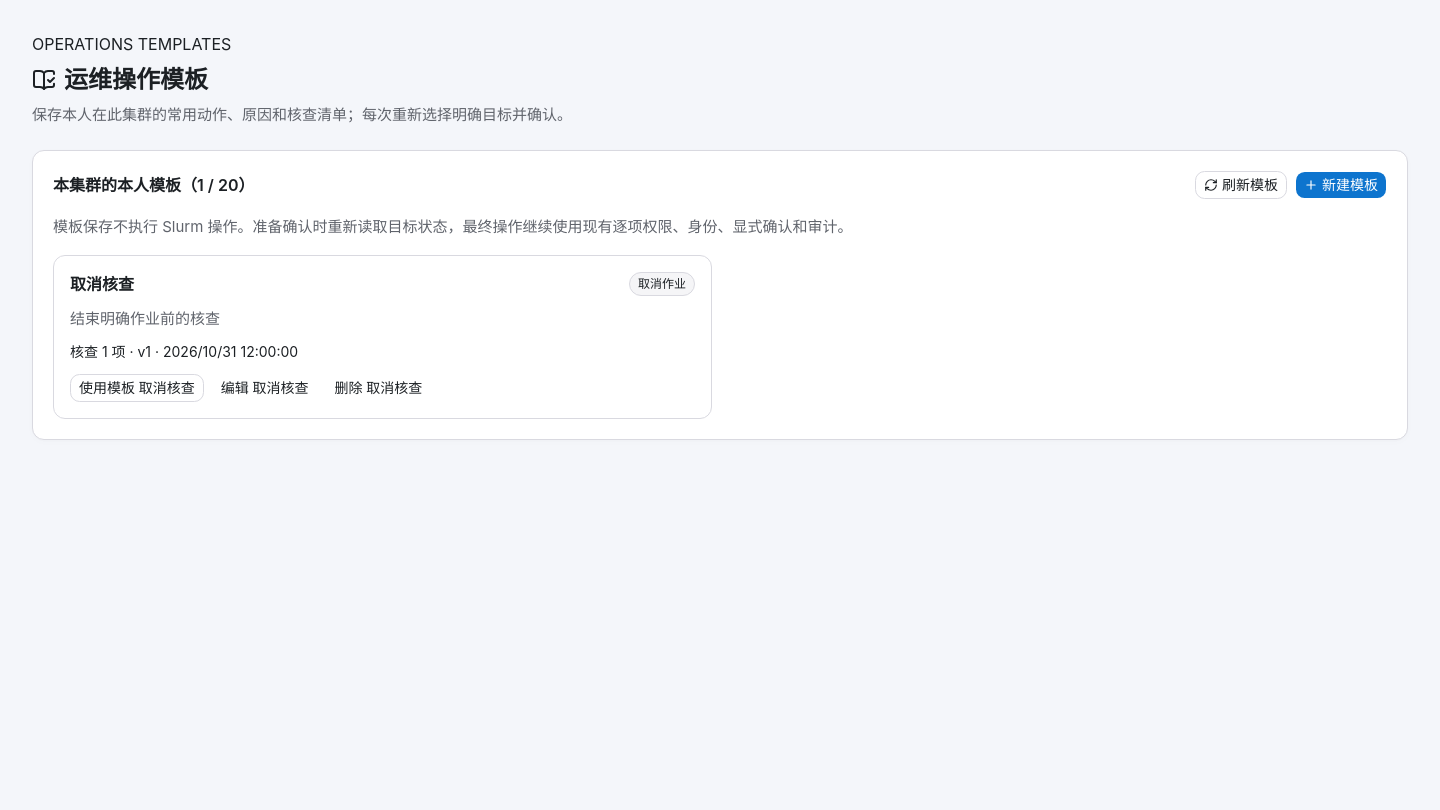
Test: never prepares or executes merely by listing or selecting a template
This screenshot has width=1440, height=810.
Expected: the heading "取消核查" is shown, [70,272,134,296]
Click the button "使用模板 取消核查" at (137, 388), box [70,374,204,402]
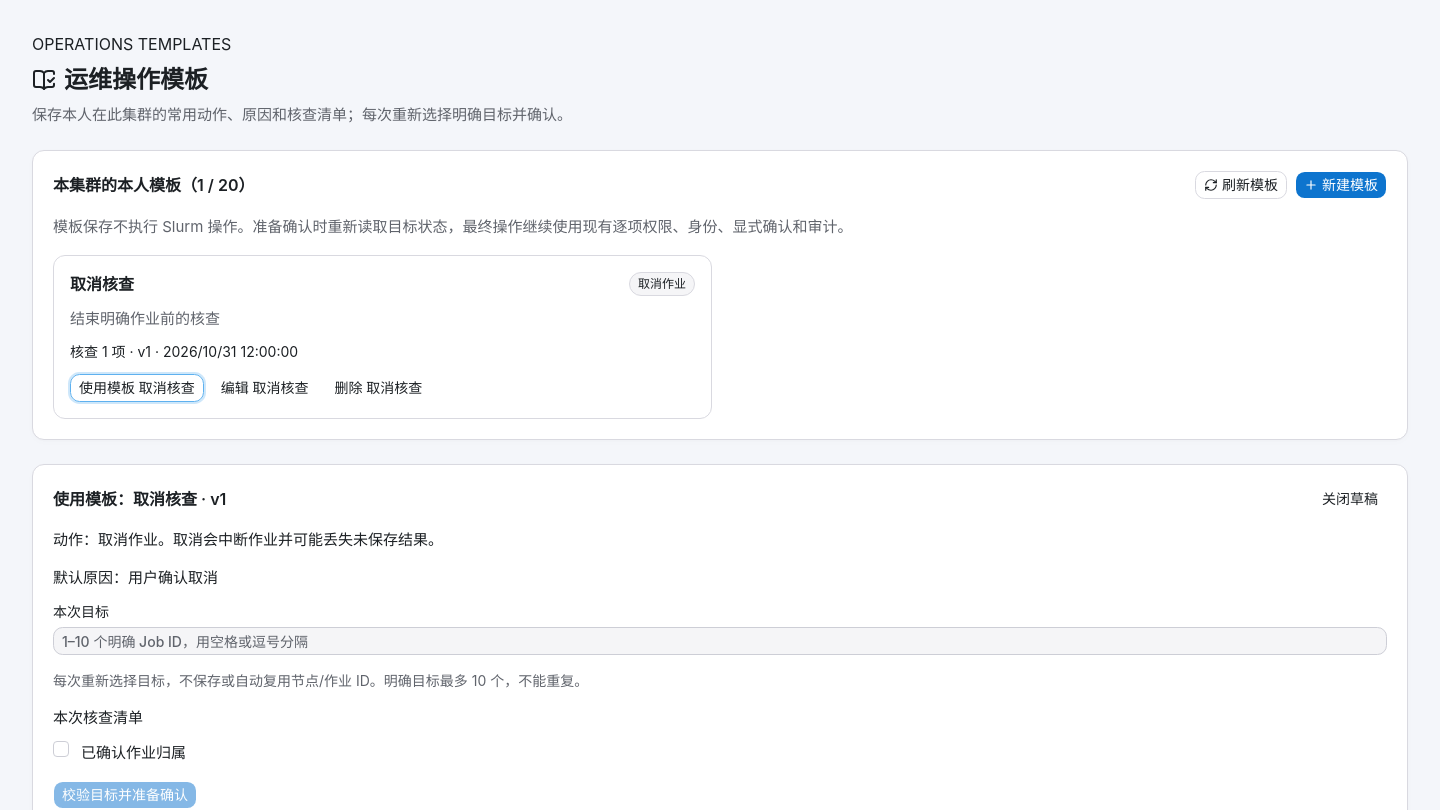
Expected: the button "校验目标并准备确认" is disabled, [53,781,197,809]
